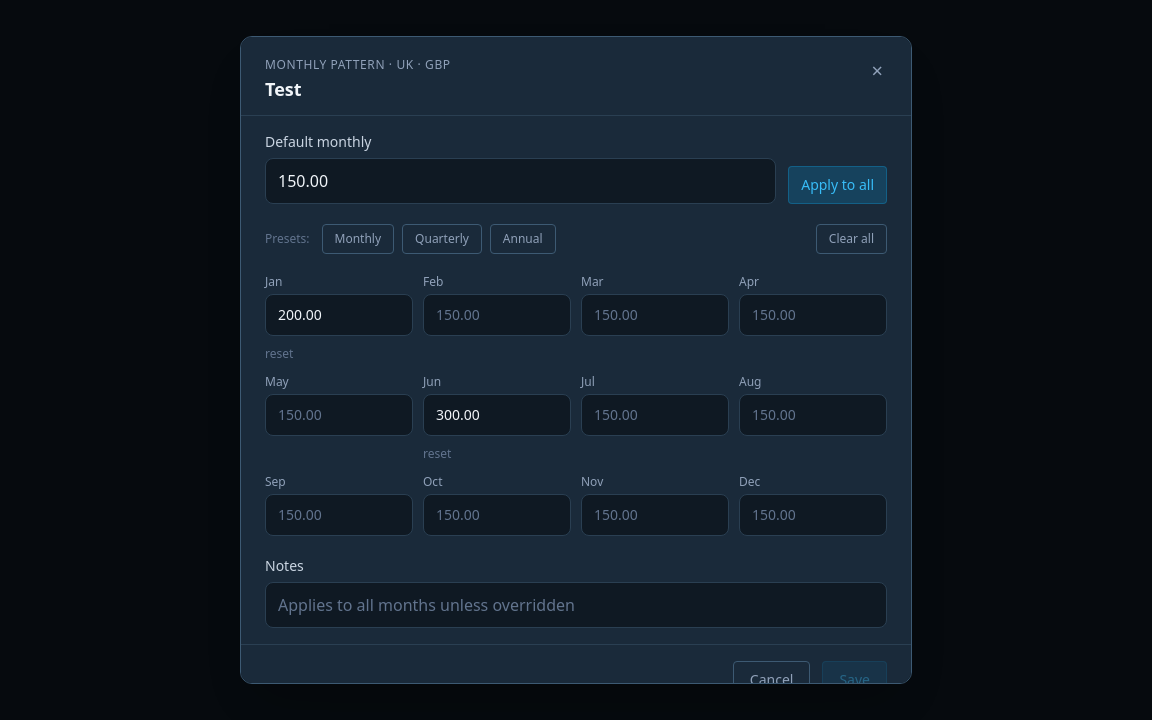
Test: BudgetPatternModal › "Clear all" empties all overrides
The image size is (1152, 720).
expect the number field named "override for jan" holds "200": met, box x1=265 y1=294 x2=413 y2=336
Click the button with aria-label "clear all overrides": {"x": 851, "y": 239} x1=816 y1=224 x2=887 y2=254
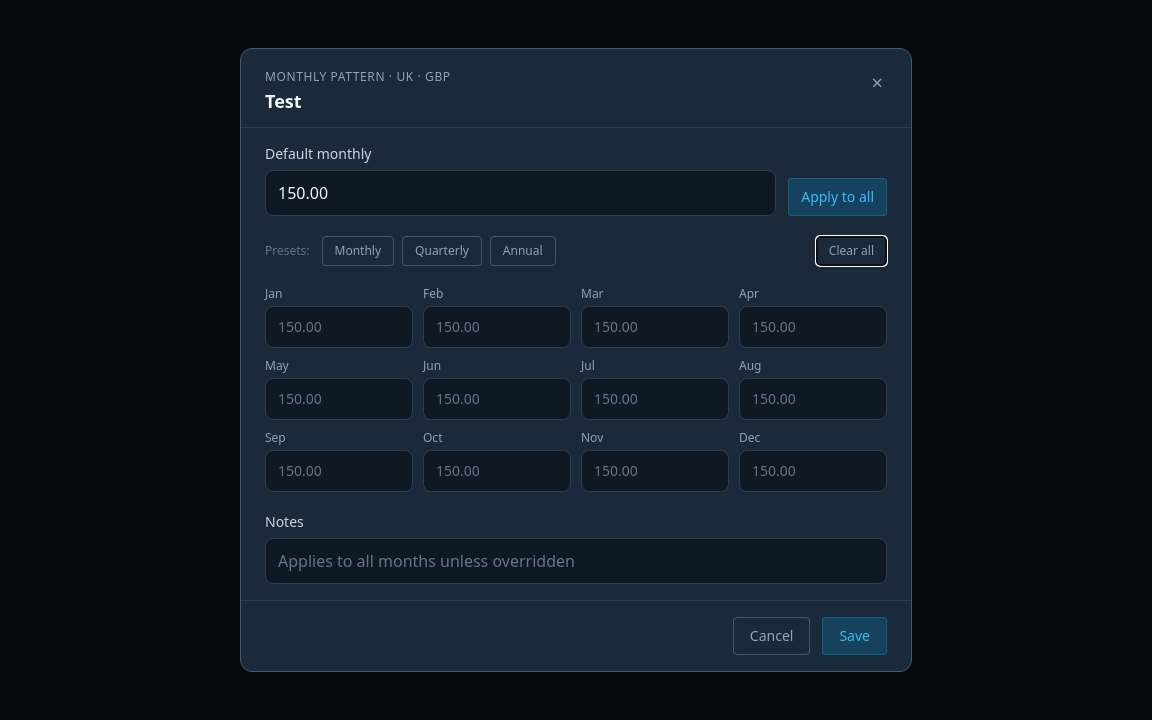
expect the number field named "override for jan" is not empty: met, box x1=265 y1=306 x2=413 y2=348
expect the number field named "override for jun" is not empty: met, box x1=423 y1=378 x2=571 y2=420
